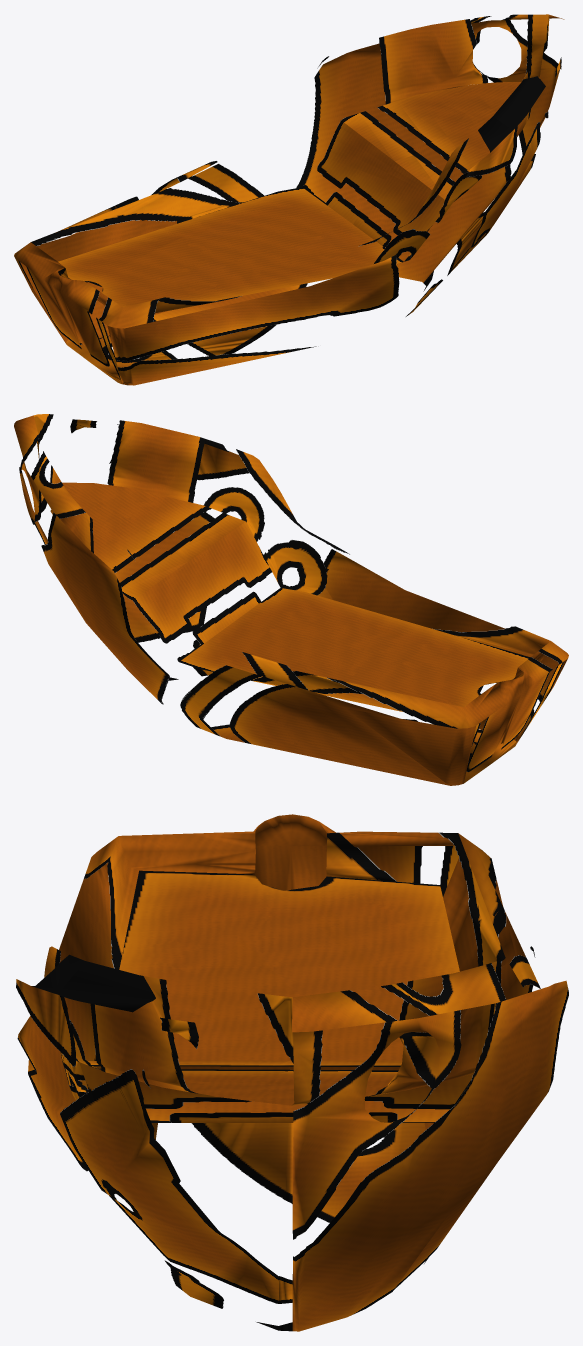
The model's file is 3DBenchy_HullUnwrappedLow.obj.
The picture shows the model from 3 angles, top to bottom: view 1: azimuth 30°, elevation 25°; view 2: azimuth 150°, elevation 25°; view 3: azimuth 270°, elevation 25°; orthographic projection. The views are drawn at different scales.
Visible parts, largest first — view 1: Boat_Hull_Unwrapped_Low; view 2: Boat_Hull_Unwrapped_Low; view 3: Boat_Hull_Unwrapped_Low.
Part boxes in pixels (box(x1,y1,x2,y2)): Boat_Hull_Unwrapped_Low: box(14, 14, 564, 385); Boat_Hull_Unwrapped_Low: box(14, 414, 568, 785); Boat_Hull_Unwrapped_Low: box(16, 814, 568, 1331).
Size of the model in its own units: 0.0296 by 0.0133 by 0.0149.
1 material, 1 textured.
